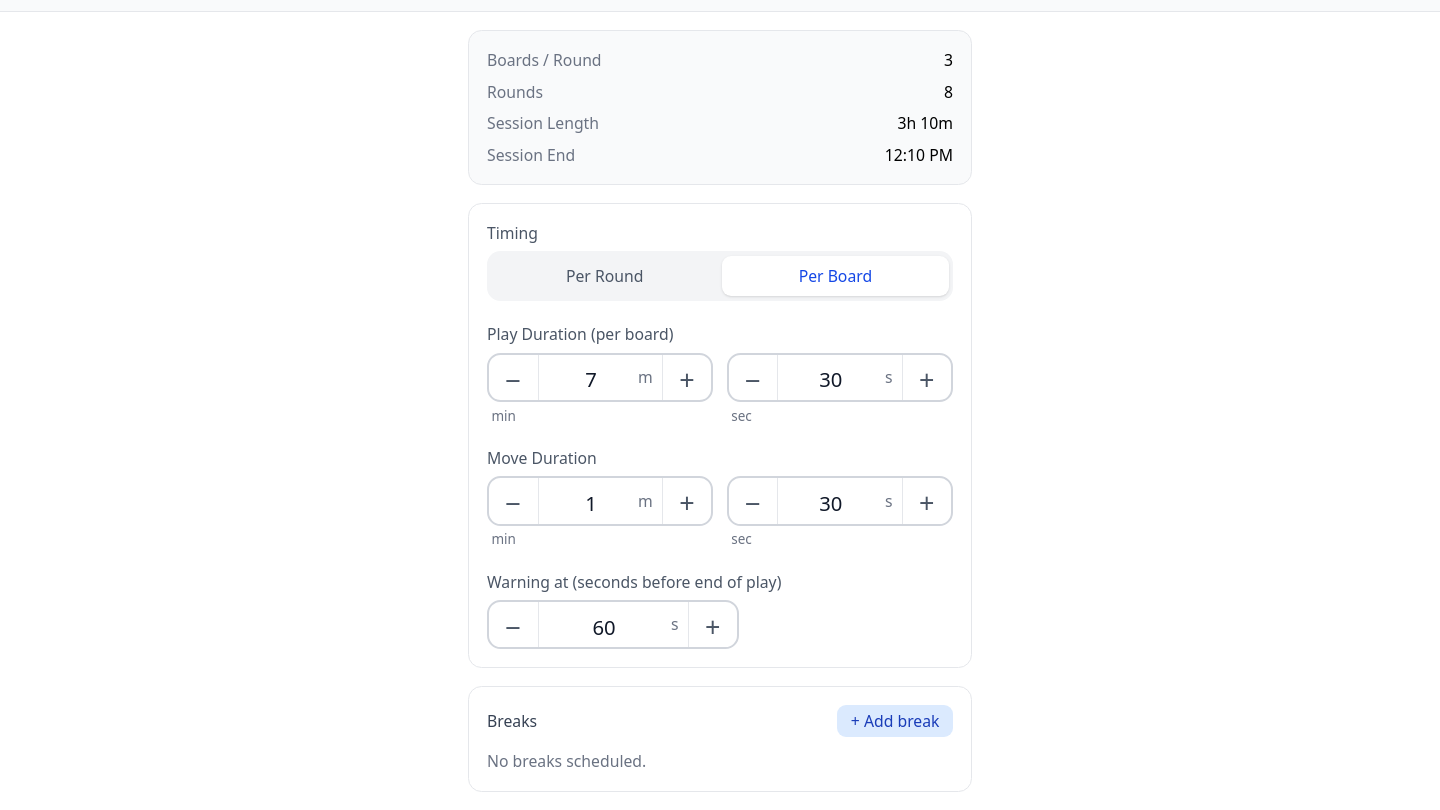
Test: TimerSetup (config screen) › adds, edits (duration + resume) and removes breaks, feeding them to the payload
The image size is (1440, 810).
(page scrolled)
Click the button "+ Add break": (895,721) [837,706,953,737]
(page scrolled)
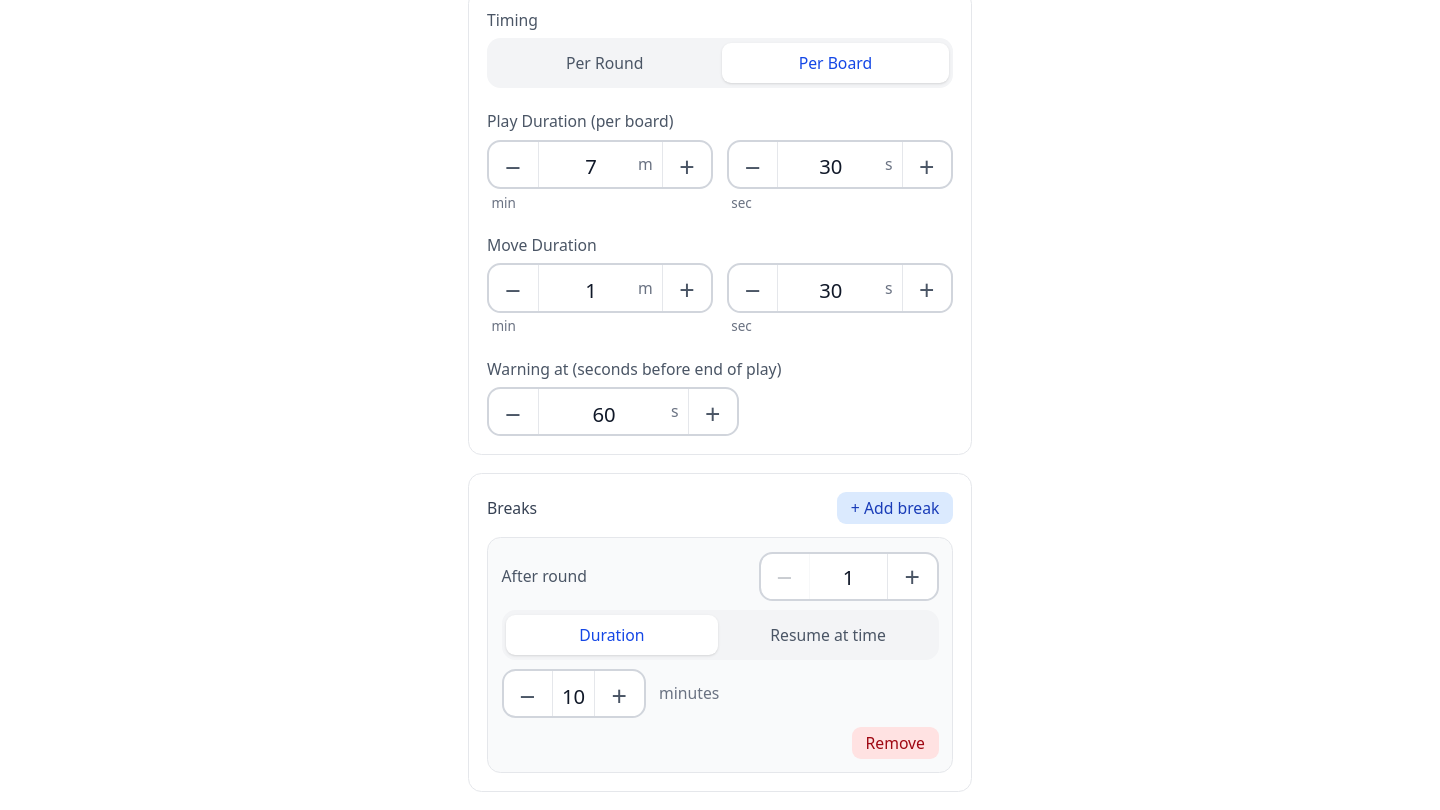
Replace the text in the number field named "Break 1 after round" with "2": (848,577) [810,552,887,602]
Replace the text in the number field named "Break 1 duration minutes" with "5": (574,696) [553,671,594,720]
Click the radio button labelled "Resume at time": (828,635) [770,624,886,646]
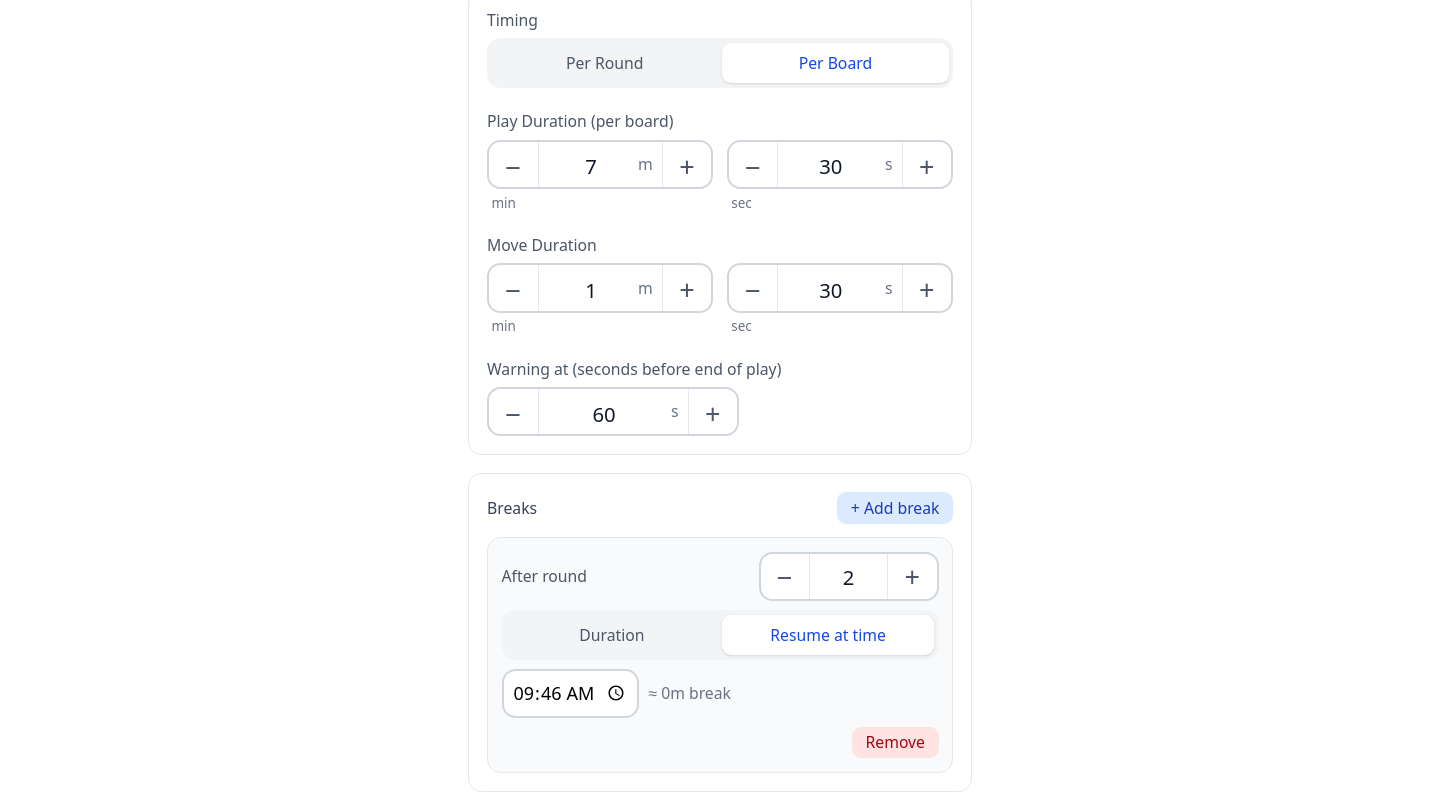
Replace the text in the time field named "Break 1 resume time" with "23:59": (570,694) [502,669,639,718]
Wait 1000 ms
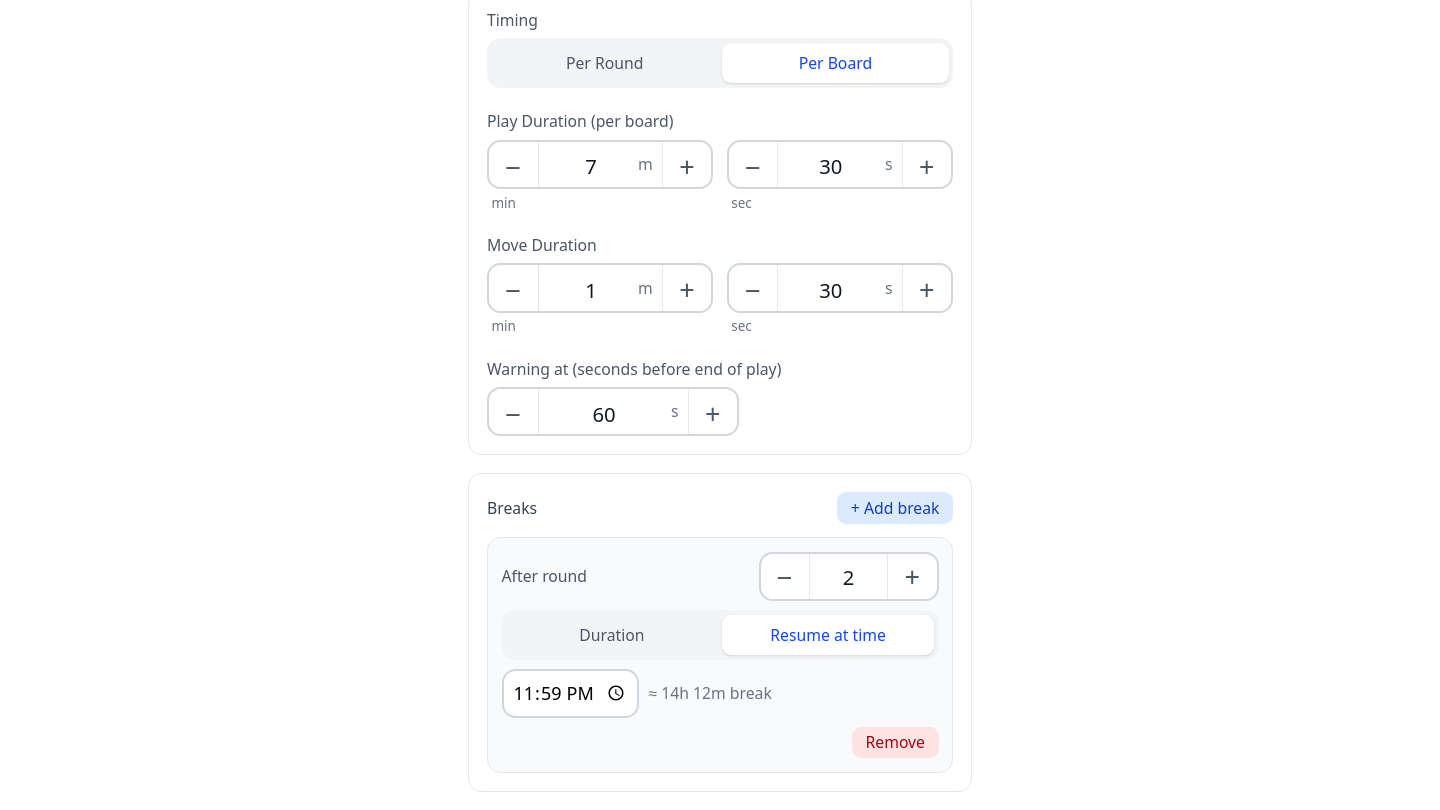
Click the radio button labelled "Duration": (612,635) [579,624,644,646]
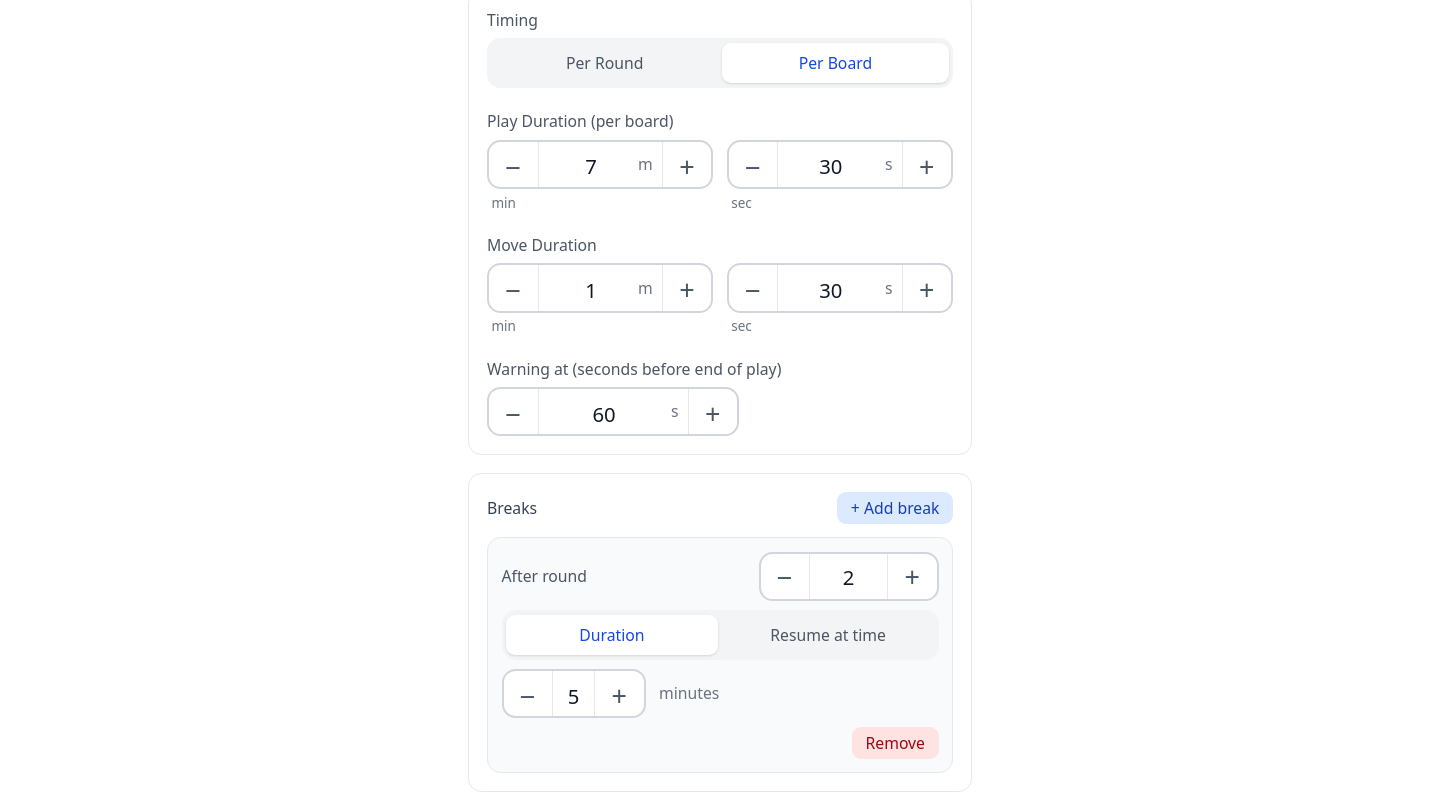
Replace the text in the number field named "Break 1 duration minutes" with "8": (574,696) [553,671,594,720]
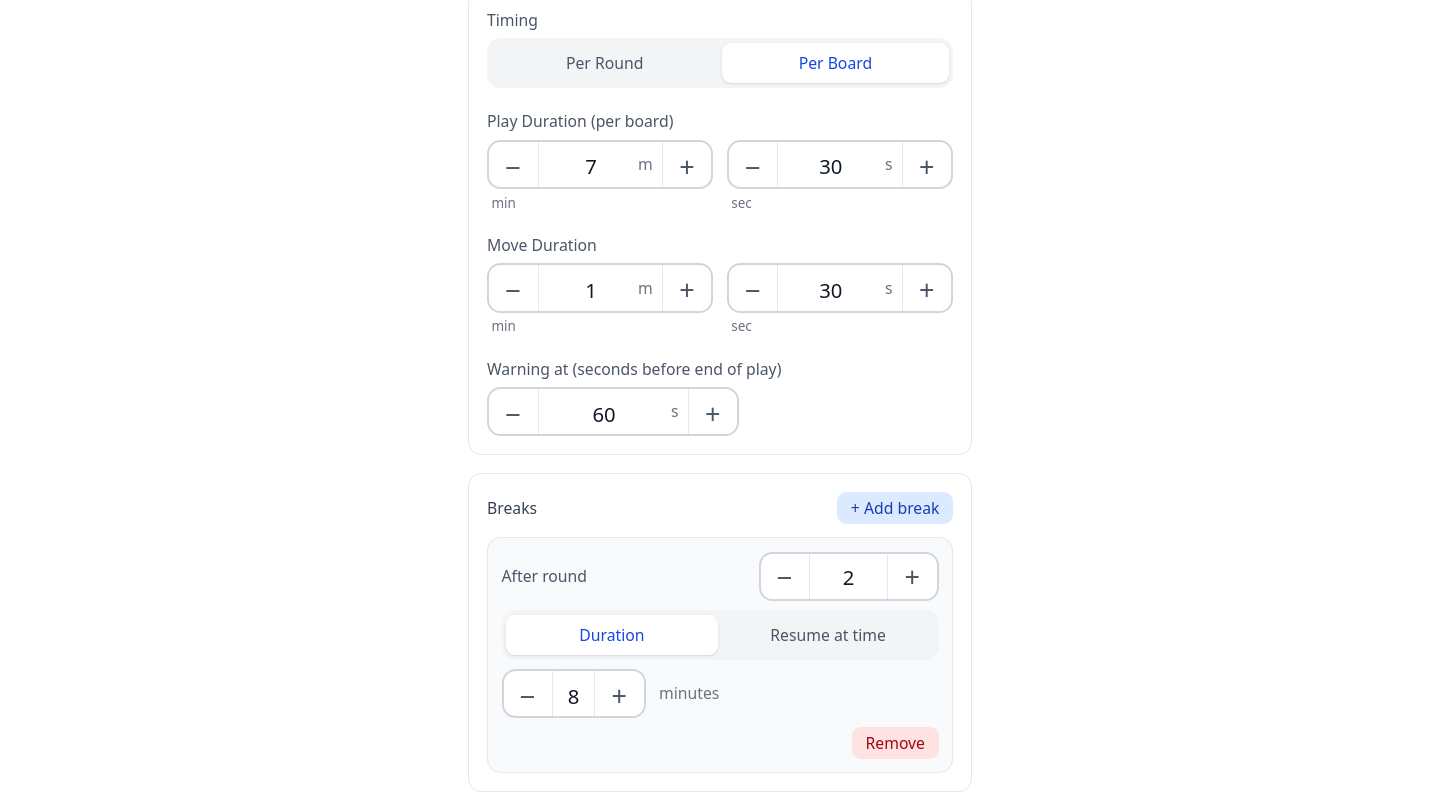
Click the button with aria-label "Remove break 1": (895,743) [852,728,938,759]
(page scrolled)
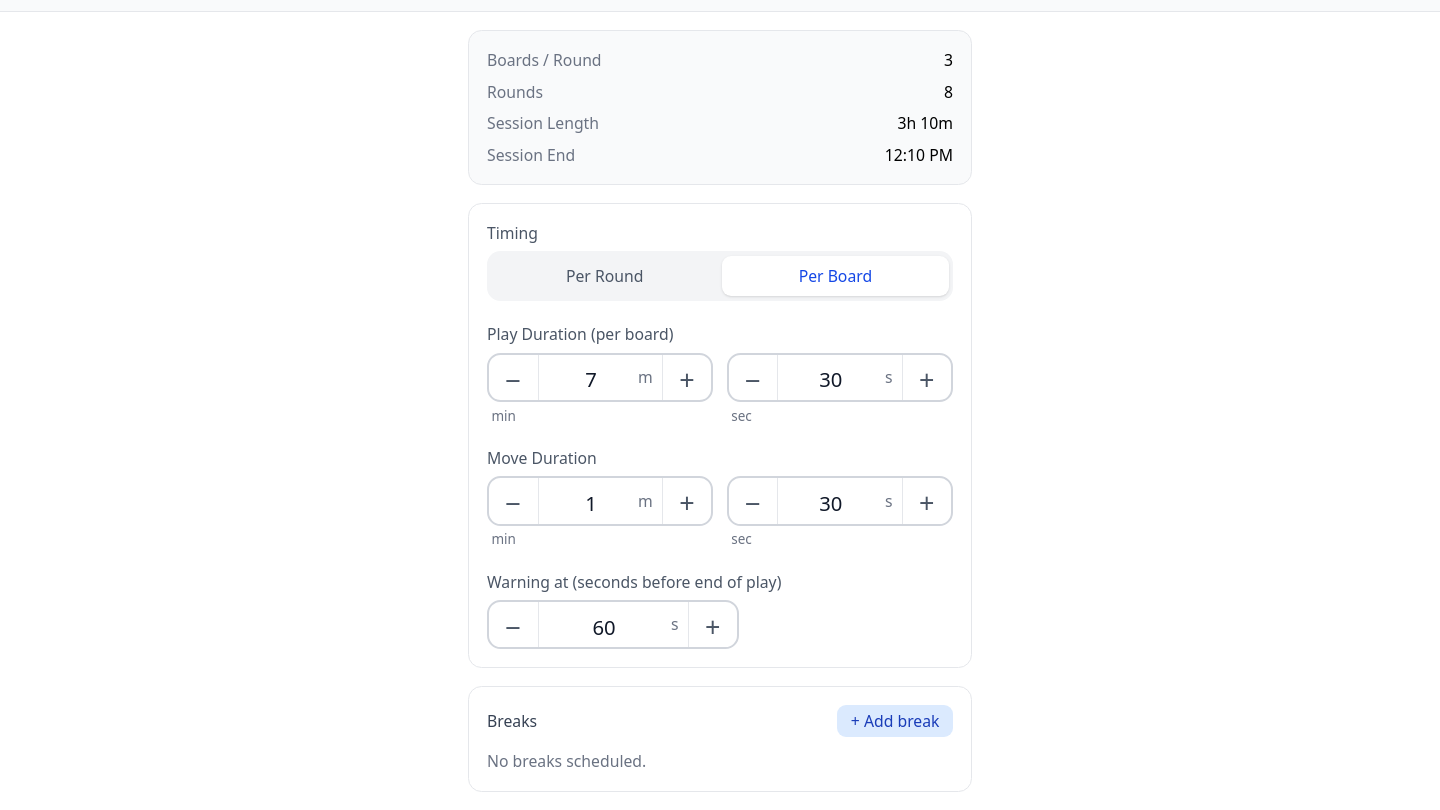
Now the text "No breaks scheduled." is shown, box [487,750,646,772]
